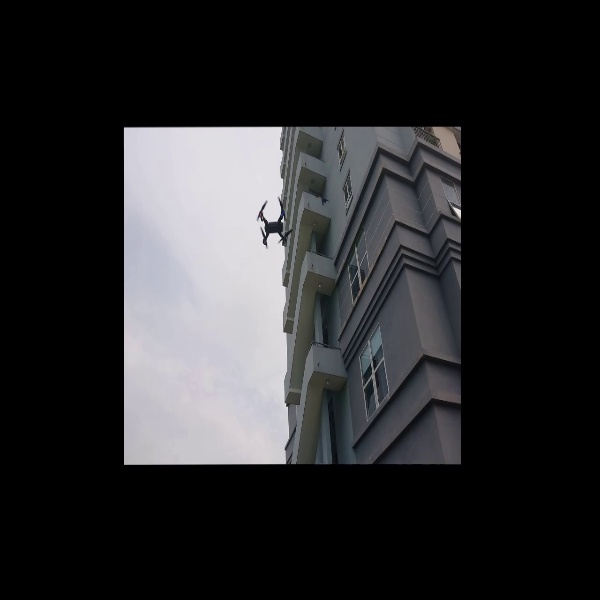drone: (251, 194, 299, 251)
